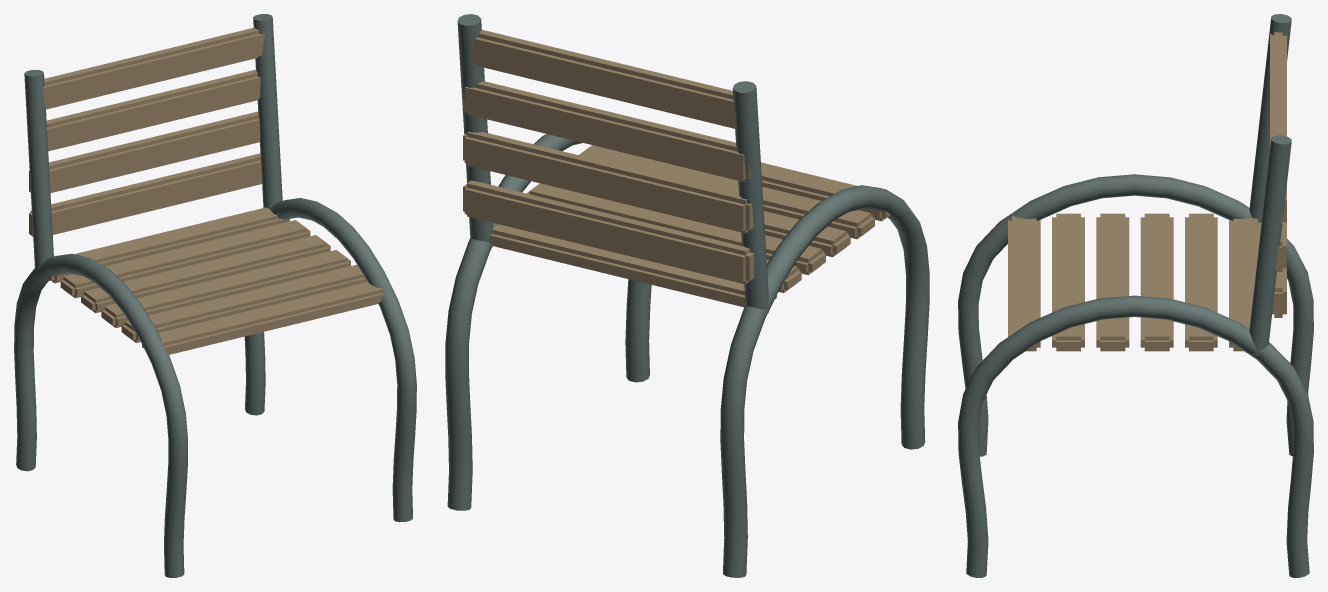
File: outdoor_chair.glb
3 renders of one model, left to right at view 1: azimuth 30°, elevation 25°; view 2: azimuth 150°, elevation 25°; view 3: azimuth 270°, elevation 25°, orthographic. The views are drawn at different scales.
Parts seen in each view (by area): view 1: outdoor_chair_Weatherproof_slatted_composite, outdoor_chair_Exterior_powder_coated_aluminium; view 2: outdoor_chair_Weatherproof_slatted_composite, outdoor_chair_Exterior_powder_coated_aluminium; view 3: outdoor_chair_Exterior_powder_coated_aluminium, outdoor_chair_Weatherproof_slatted_composite.
Part boxes in pixels (bbox=[...]): outdoor_chair_Weatherproof_slatted_composite: bbox=[29, 27, 388, 354]; outdoor_chair_Exterior_powder_coated_aluminium: bbox=[14, 14, 416, 577]; outdoor_chair_Weatherproof_slatted_composite: bbox=[463, 29, 890, 307]; outdoor_chair_Exterior_powder_coated_aluminium: bbox=[445, 14, 929, 577]; outdoor_chair_Exterior_powder_coated_aluminium: bbox=[958, 14, 1313, 577]; outdoor_chair_Weatherproof_slatted_composite: bbox=[1008, 31, 1286, 351].
Size of the model in its own units: 0.516 by 0.8042 by 0.595.
